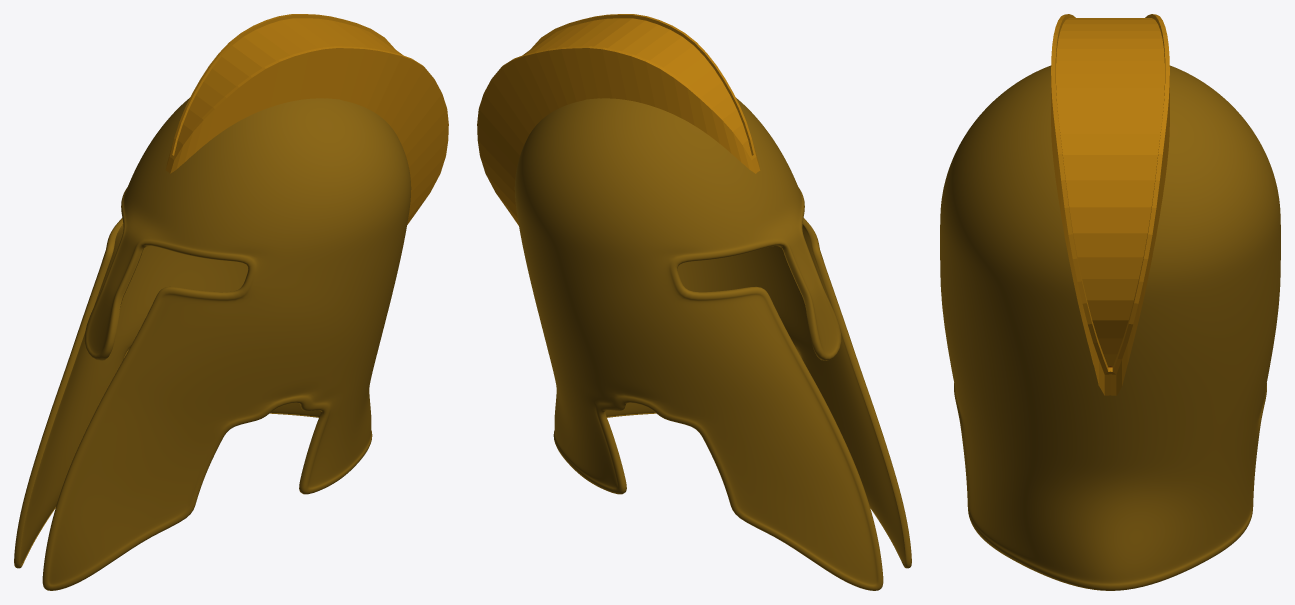
The model's file is knight helmet 1.fbx.
The picture shows the model from 3 angles, left to right: view 1: azimuth 30°, elevation 25°; view 2: azimuth 150°, elevation 25°; view 3: azimuth 270°, elevation 25°; orthographic projection. The views are drawn at different scales.
Visible parts, largest first — view 1: Helmet, Band; view 2: Helmet, Band; view 3: Helmet, Band.
Boxes of the visible parts, x1,y1,x2,y2 form: Helmet: [14, 98, 411, 590]; Band: [165, 14, 448, 224]; Helmet: [514, 98, 911, 590]; Band: [477, 14, 760, 225]; Helmet: [940, 65, 1280, 590]; Band: [1051, 14, 1169, 395].
Bounding box in the file's own units: 341 × 386 × 197.
